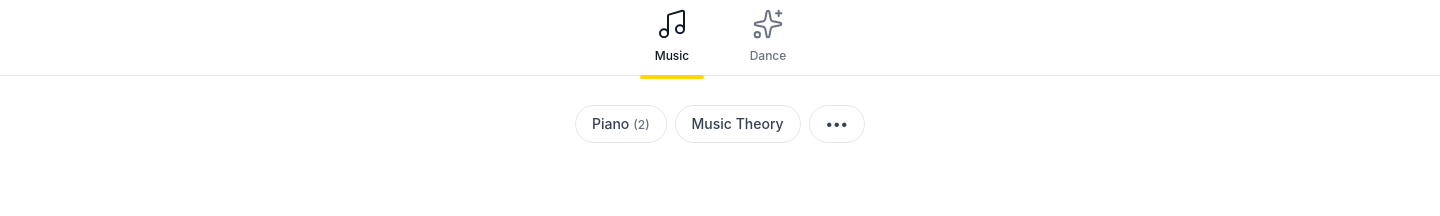
HomeCatalogCascade › shows service pills for subcategories with multiple services
Click the button "Piano(2)" at (621, 124), box [575,105,667,143]
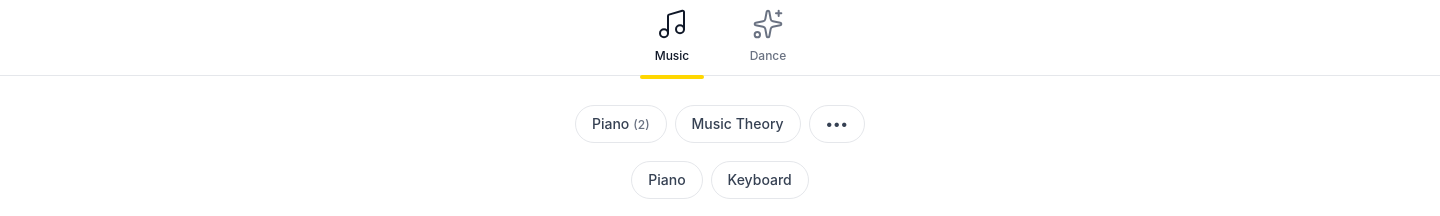
Now the link "Piano" is shown, box [631,161,703,199]
Now the link "Keyboard" is shown, box [711,161,809,199]
